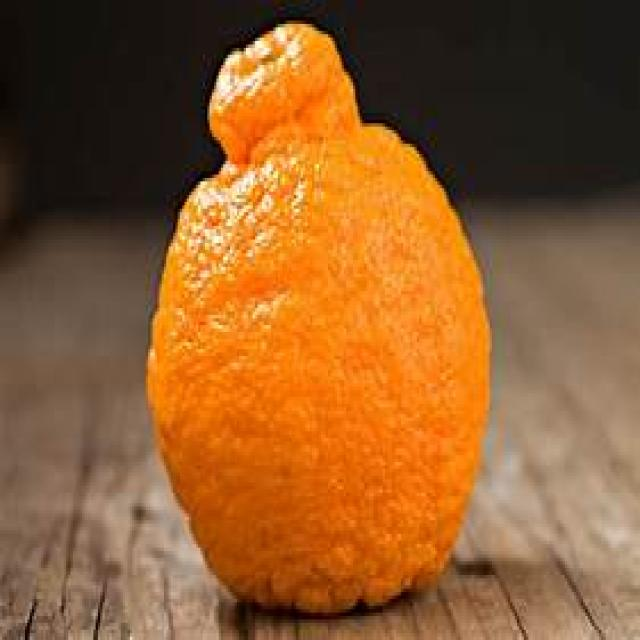orange: (148, 20, 492, 616)
